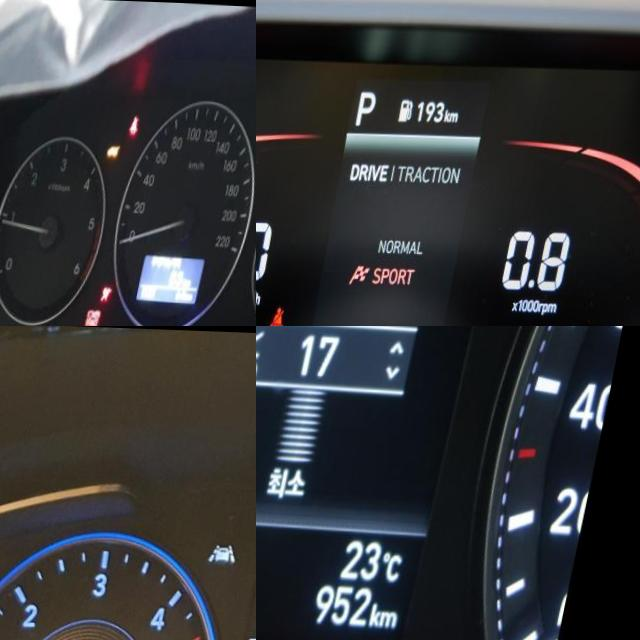LaneCenteringOff: (215, 541, 246, 561)
